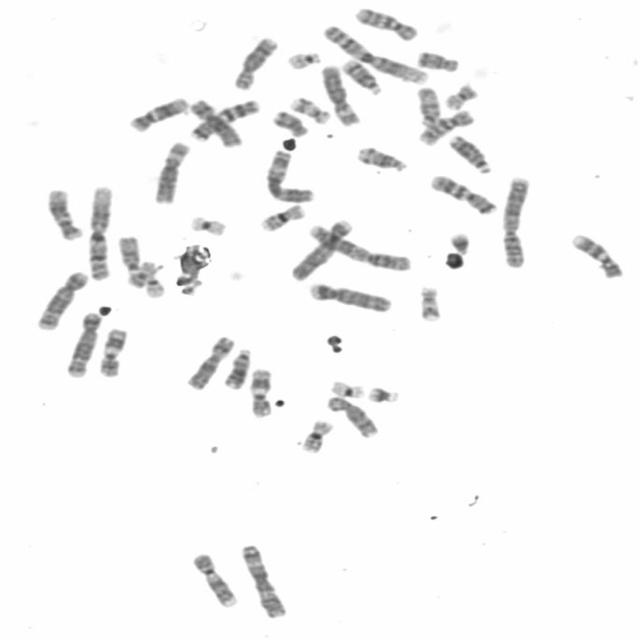A1: (320, 21, 432, 85), (84, 181, 118, 282)
A2: (305, 219, 415, 272), (495, 171, 534, 269)
A3: (237, 540, 289, 618), (260, 146, 318, 204)
B4: (288, 215, 357, 282), (304, 278, 395, 314)
B5: (32, 268, 90, 332), (63, 309, 104, 378)
C10: (351, 3, 422, 42), (414, 106, 478, 146)
C11: (94, 324, 129, 378), (246, 364, 276, 418)
C12: (124, 92, 190, 134), (43, 184, 85, 241)
C6: (316, 59, 363, 126), (149, 137, 193, 205)
C7: (184, 95, 261, 143), (426, 171, 500, 216)
C8: (229, 32, 280, 90), (321, 392, 381, 439)
C9: (188, 548, 240, 608), (566, 229, 626, 279)
D13: (444, 130, 495, 174), (219, 345, 254, 390)
D14: (339, 55, 384, 95), (352, 142, 410, 173)
D15: (412, 83, 442, 128), (113, 232, 143, 276)
E16: (256, 200, 308, 233), (296, 416, 336, 454)
E17: (286, 92, 333, 126), (414, 282, 444, 324)
E18: (268, 105, 310, 138), (411, 46, 462, 73)
F19: (186, 211, 230, 237), (326, 376, 368, 399)
F20: (440, 79, 480, 111), (123, 257, 161, 288)
G21: (363, 381, 402, 404), (445, 229, 473, 256)
G22: (282, 47, 324, 70), (139, 265, 166, 298)
X: (182, 330, 237, 390), (185, 95, 244, 149)
